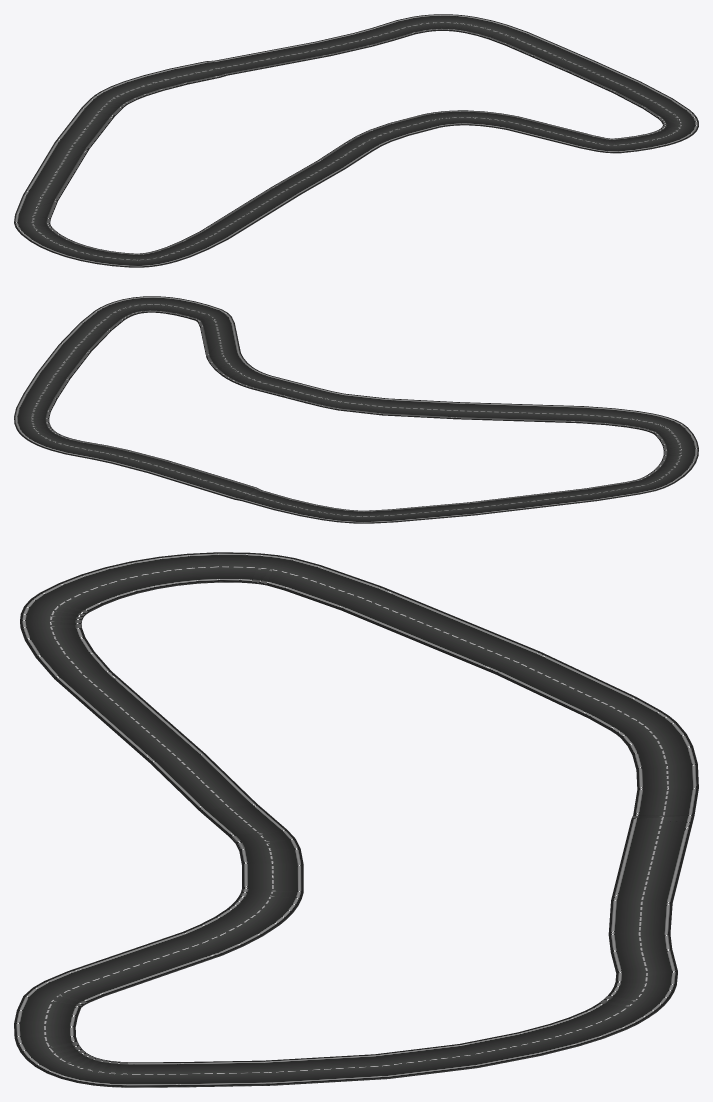
Rendered from MyRoad.glb.
3 renders of one model, top to bottom at view 1: azimuth 30°, elevation 25°; view 2: azimuth 150°, elevation 25°; view 3: azimuth 270°, elevation 25°, orthographic. The views are drawn at different scales.
Visible parts, largest first — view 1: track_road2; view 2: track_road2; view 3: track_road2.
Part boxes in pixels (<box>): track_road2: <box>14,14,698,267</box>; track_road2: <box>14,296,698,523</box>; track_road2: <box>14,552,698,1087</box>.
Bounding box in the file's own units: 485 × 11.54 × 266.
1 material, 1 textured.
